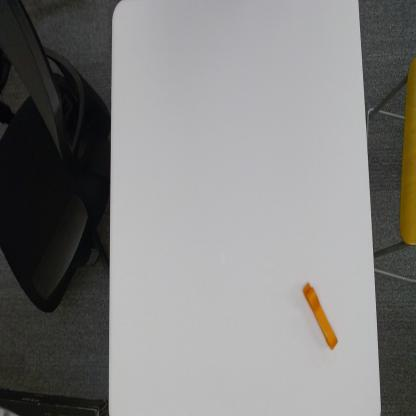Screwdriver: (301, 277, 341, 355)
